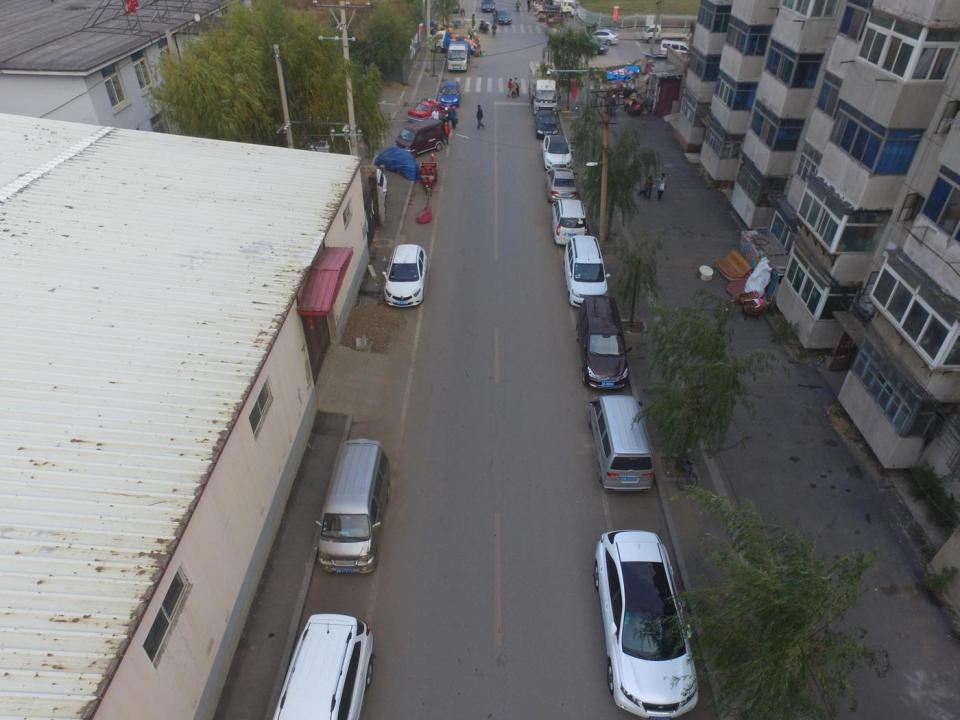car: (594, 528, 699, 720), (268, 612, 374, 720), (381, 243, 429, 307), (407, 98, 458, 126), (545, 168, 579, 205), (541, 135, 575, 172), (533, 110, 559, 140), (570, 37, 609, 56), (582, 29, 620, 46), (440, 80, 462, 109), (492, 8, 512, 25), (480, 0, 496, 12)
truck: (528, 61, 561, 117), (428, 30, 480, 54), (642, 23, 687, 44), (444, 41, 470, 72)
van: (316, 438, 392, 574), (588, 394, 654, 492), (575, 296, 633, 390), (563, 235, 610, 309), (394, 117, 445, 160), (551, 198, 588, 246), (658, 40, 693, 62)
